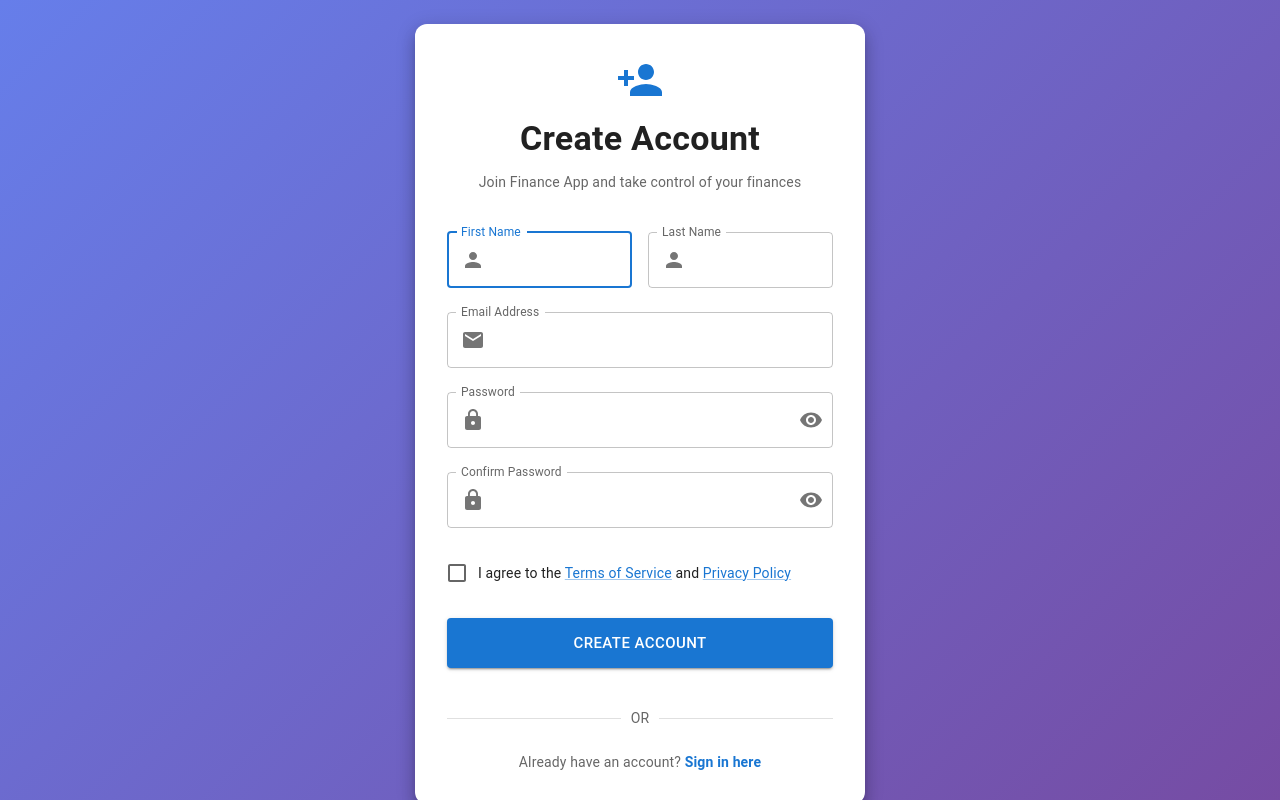
Test: Register Component › Form Validation › shows validation errors for empty fields
Click the button "Create Account" at [640, 643], box [447,618,833,668]
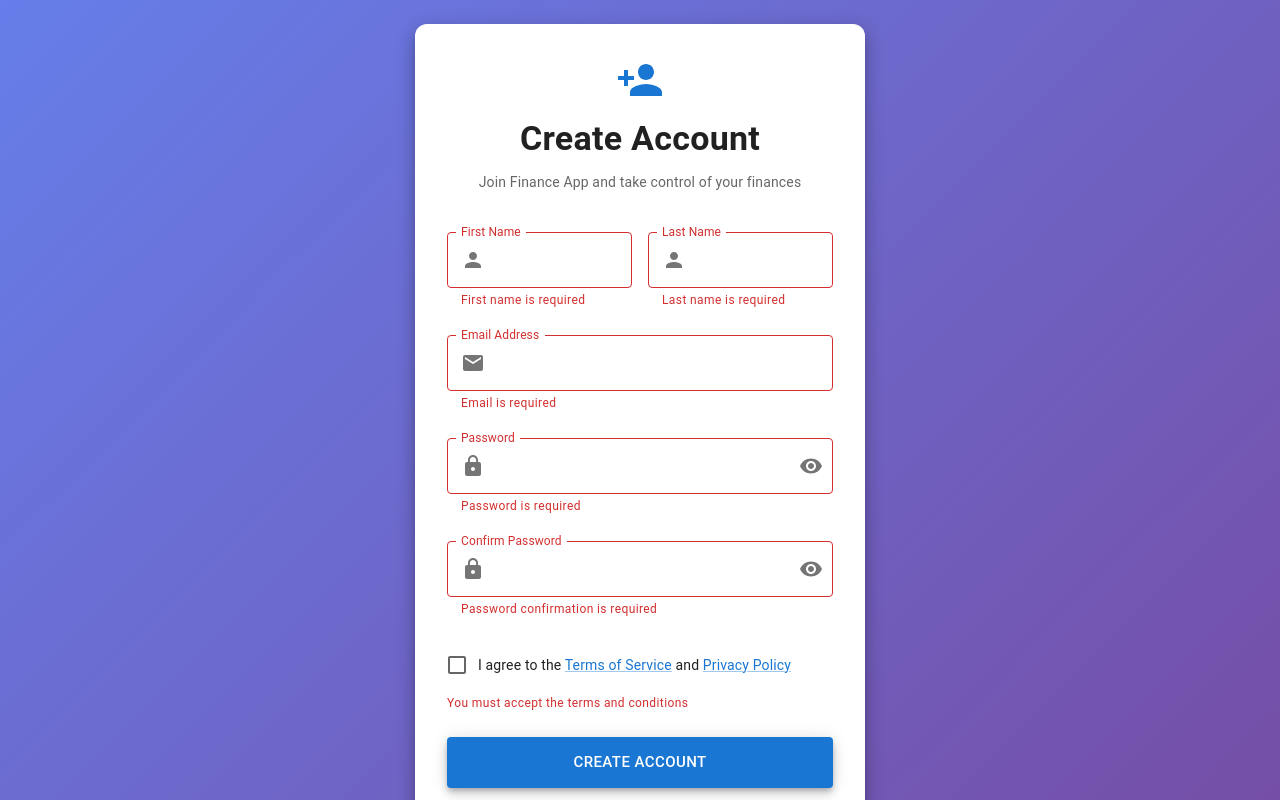
Expected: the text "First name is required" is shown, [461,293,585,307]
Expected: the text "Last name is required" is shown, [662,293,785,307]
Expected: the text "Email is required" is shown, [461,396,556,410]
